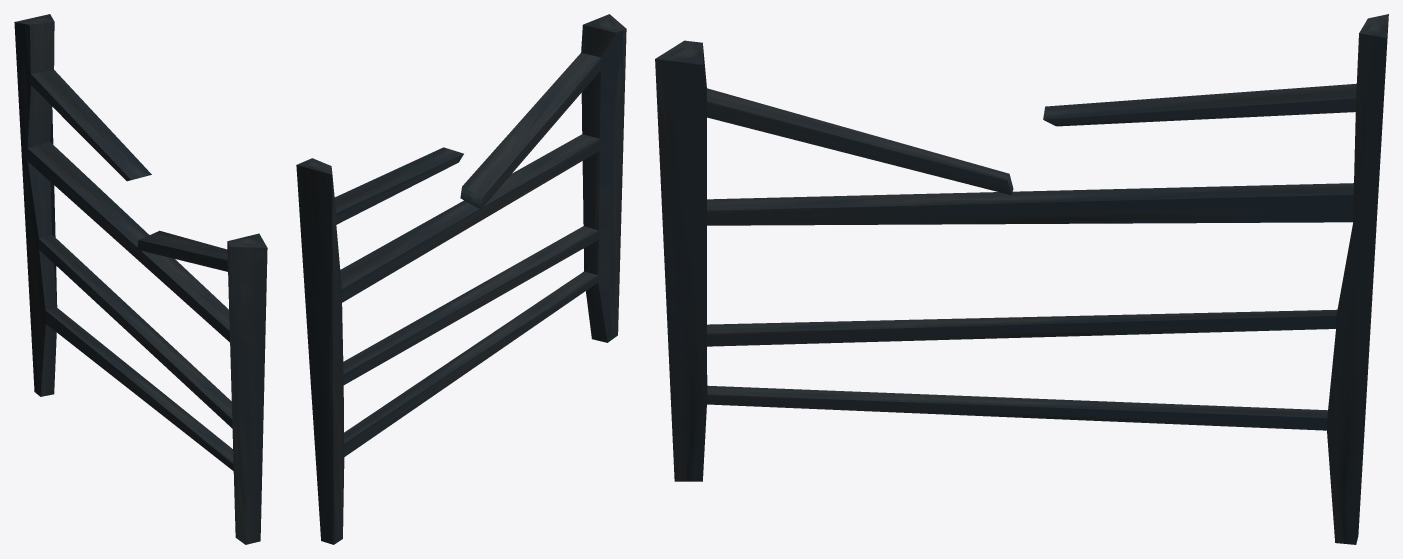
Rendered from BrokenPiece.fbx.
The picture shows the model from 3 angles, left to right: view 1: azimuth 30°, elevation 25°; view 2: azimuth 150°, elevation 25°; view 3: azimuth 270°, elevation 25°; orthographic projection. The views are drawn at different scales.
Parts seen in each view (by area): view 1: pCube4; view 2: pCube4; view 3: pCube4.
Part boxes in pixels (box(x1,y1,x2,y2)): pCube4: box(14, 14, 267, 544); pCube4: box(296, 14, 626, 544); pCube4: box(655, 14, 1388, 544).
Bounding box in the file's own units: 0.1668 × 0.8597 × 1.11.
